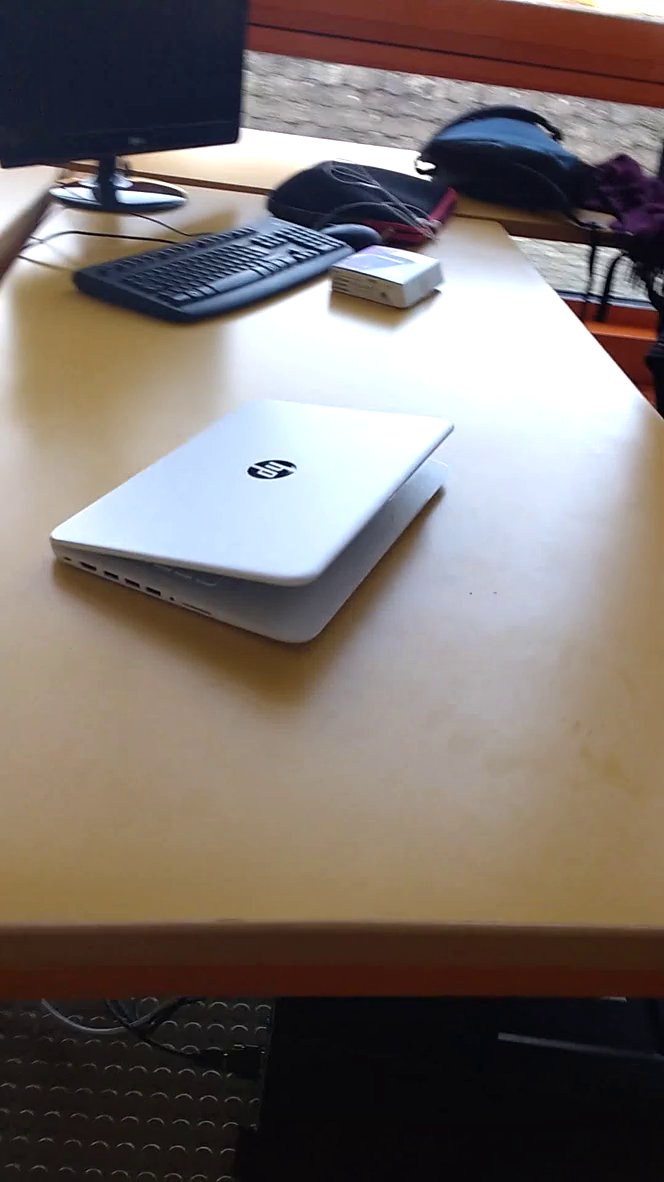laptop: (44, 390, 479, 667)
